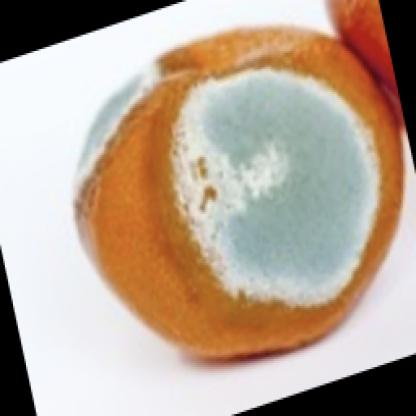rotten_orange: (60, 25, 404, 366)
